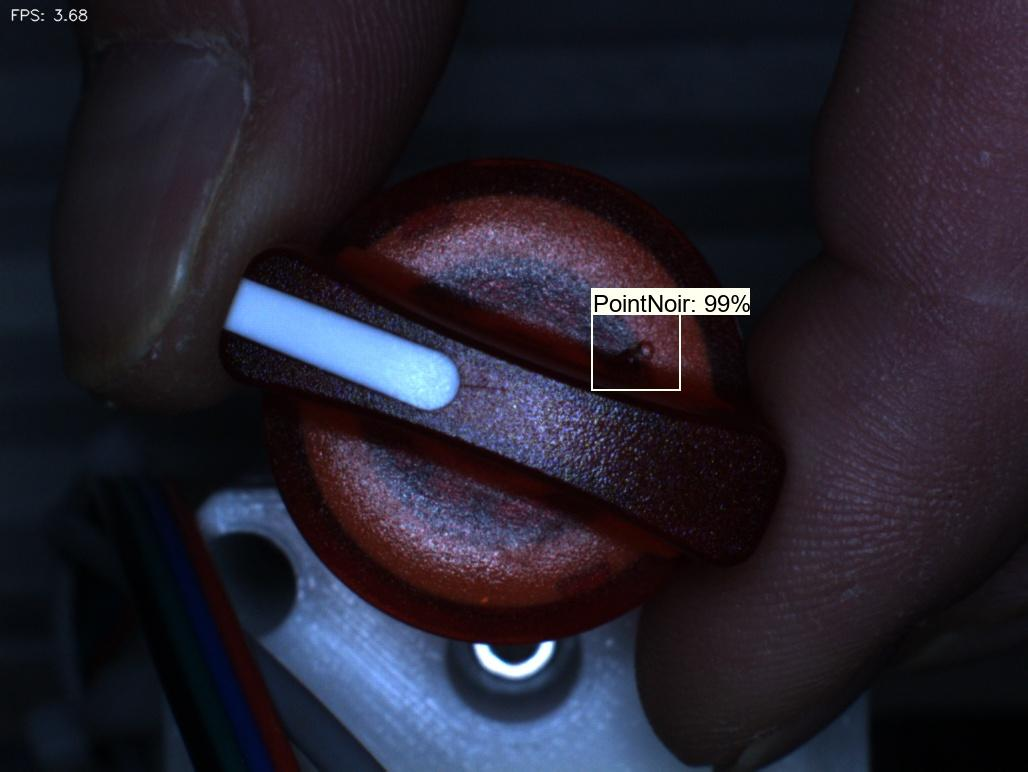Choc: (605, 318, 675, 398)
